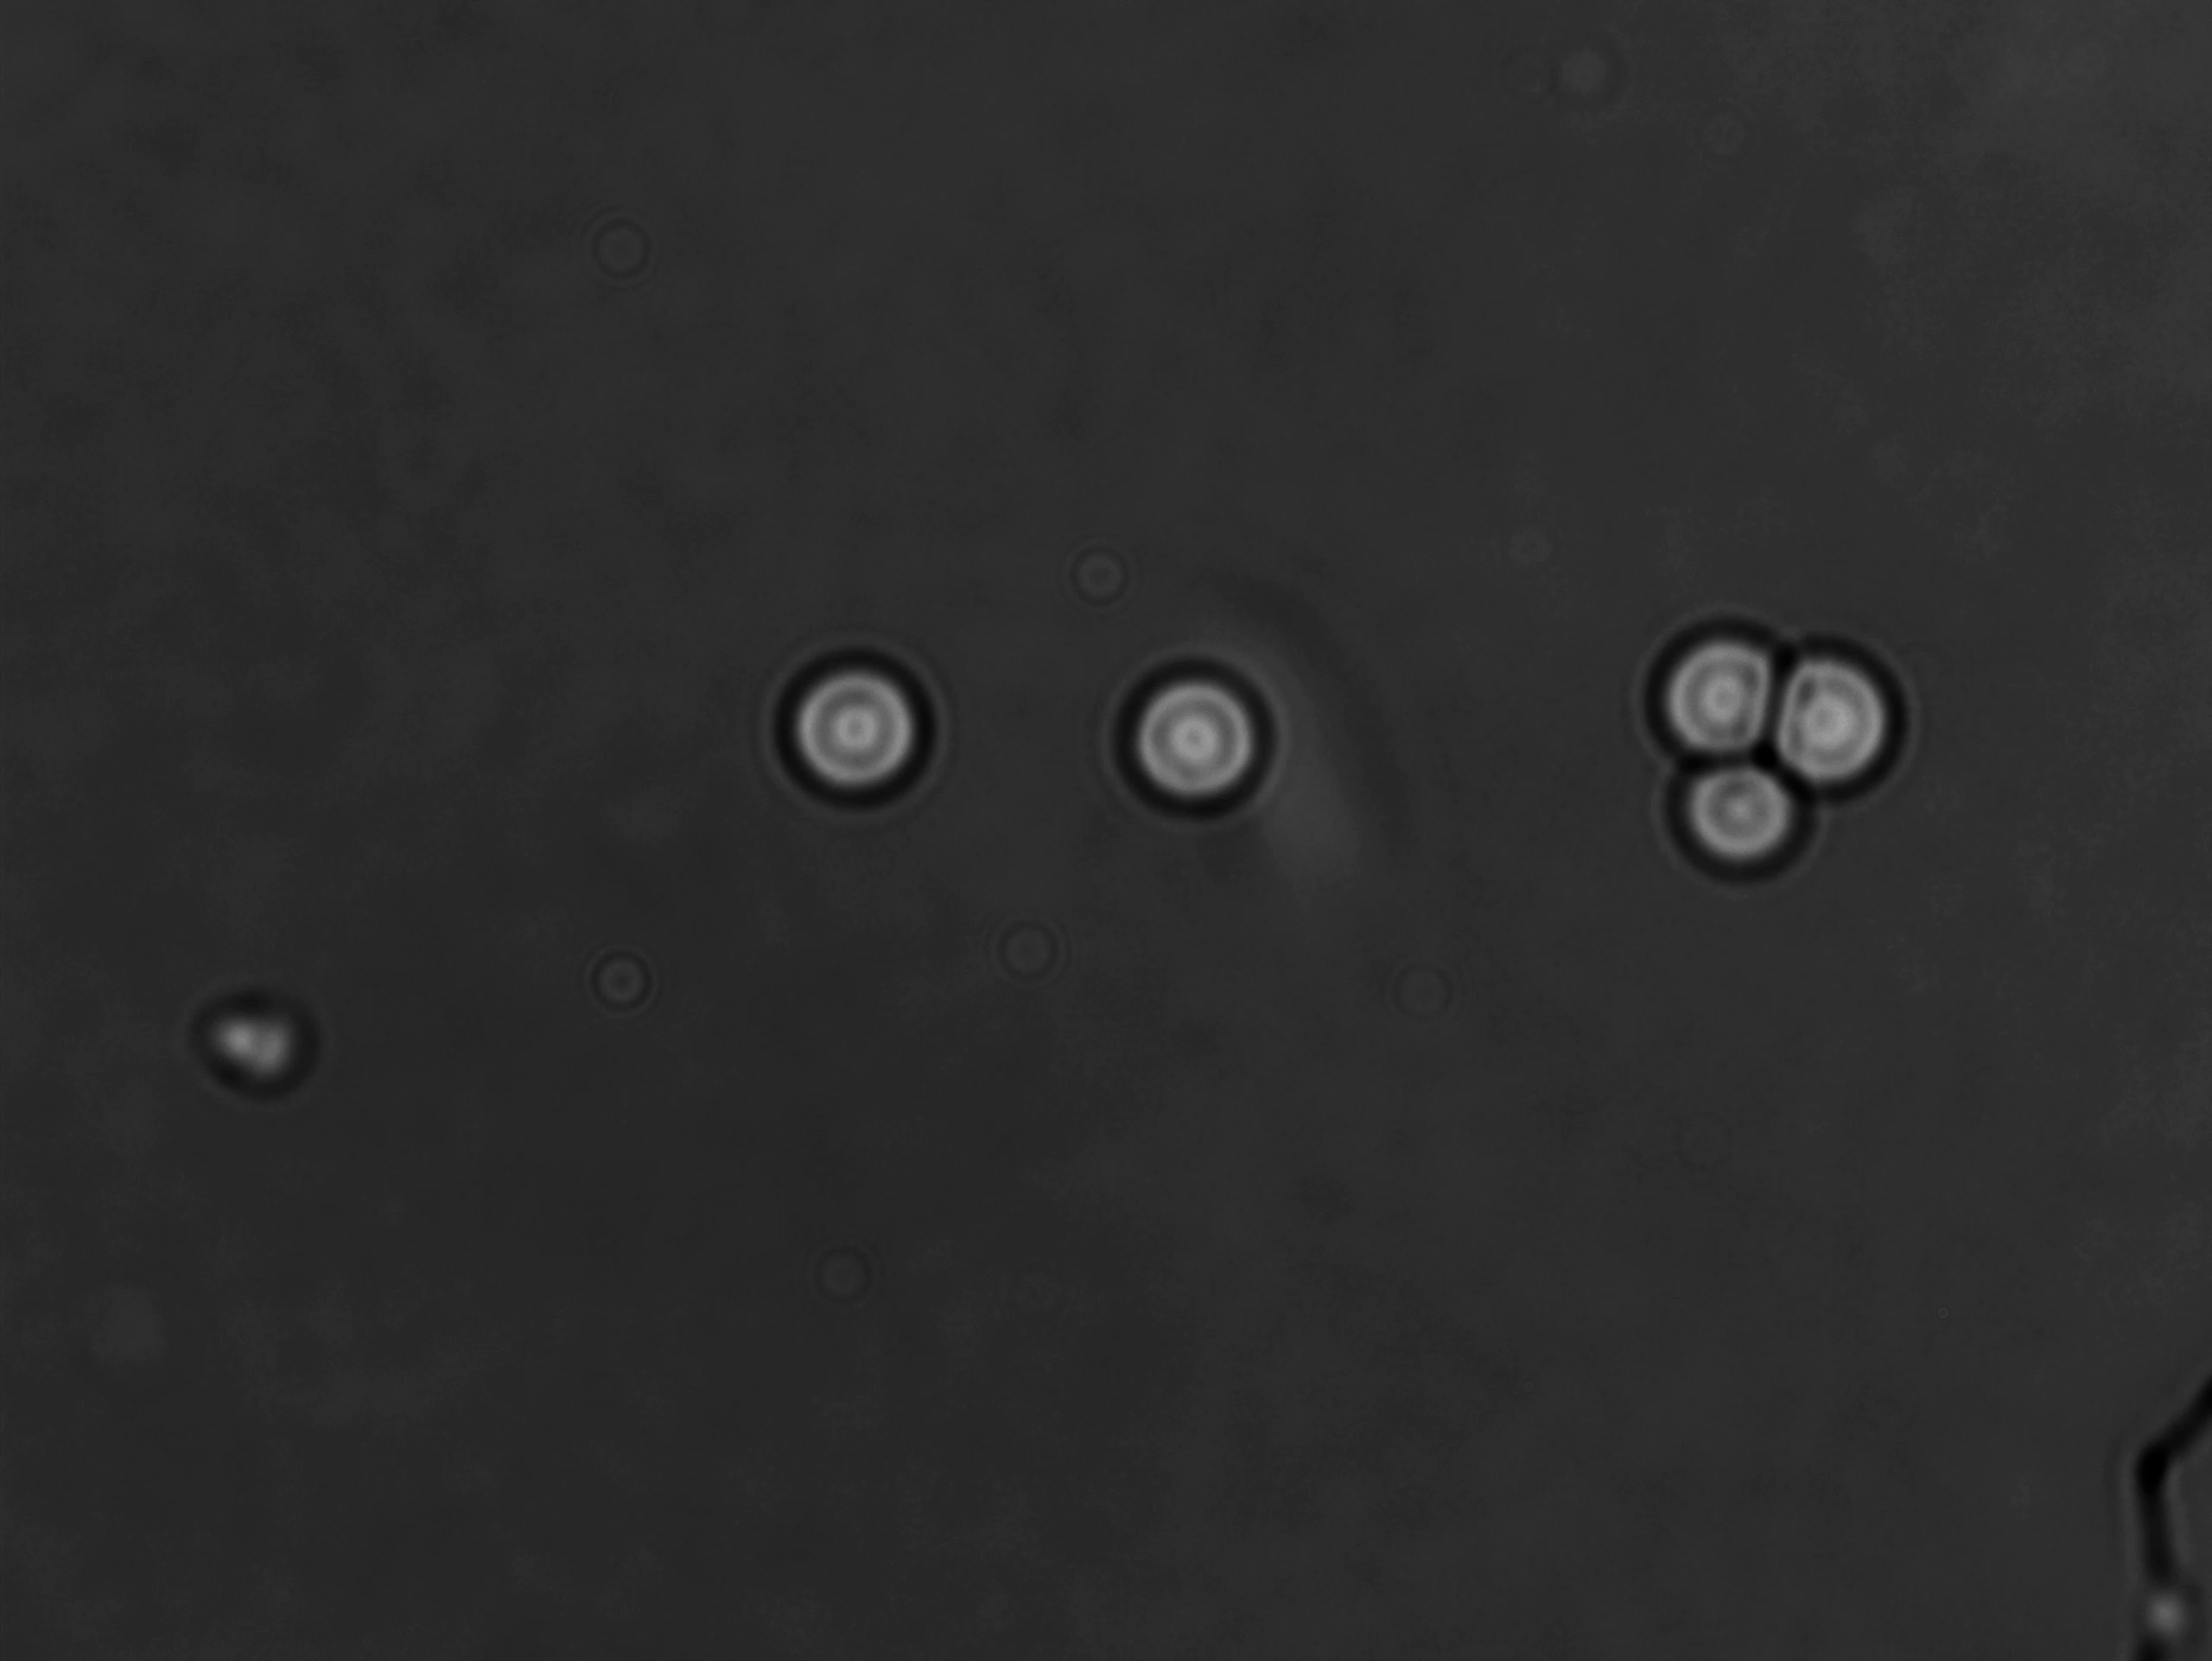depth:40: (1106, 642, 1293, 824), (764, 635, 951, 813), (1628, 593, 1804, 776), (1652, 731, 1837, 892), (1758, 642, 1912, 801)
